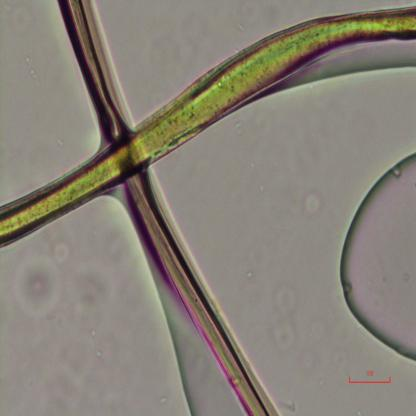Air bubble: (337, 154, 416, 364)
Background material: (14, 253, 64, 318), (62, 247, 100, 312), (271, 281, 298, 358), (88, 310, 106, 358), (245, 105, 277, 132), (25, 51, 46, 85), (299, 188, 322, 216), (52, 238, 70, 267), (236, 266, 258, 284), (52, 135, 70, 152)
Microfibre: (0, 5, 416, 250), (67, 0, 278, 415)
